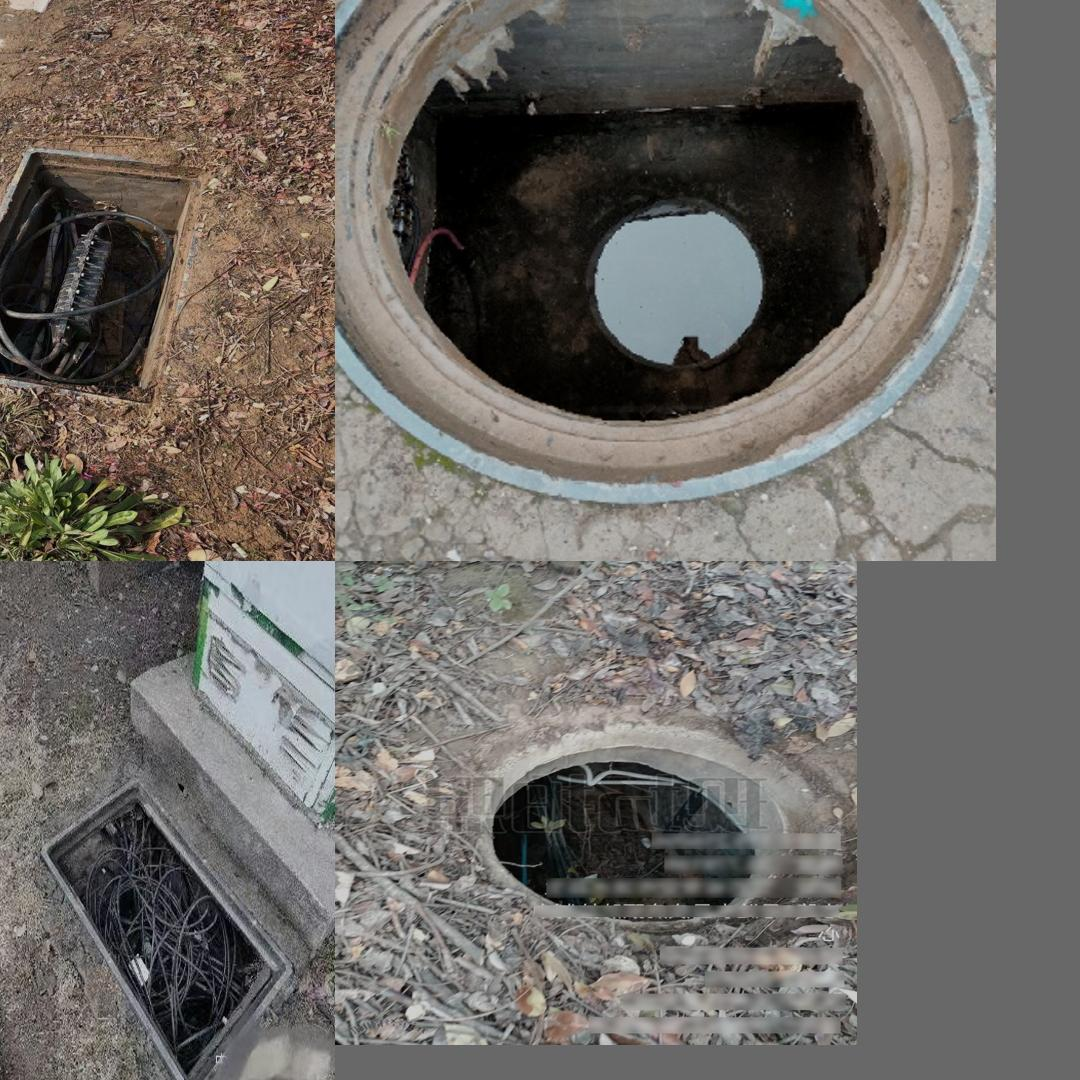lose: (340, 0, 992, 503), (39, 790, 295, 1020), (479, 742, 789, 930), (0, 149, 214, 403)
